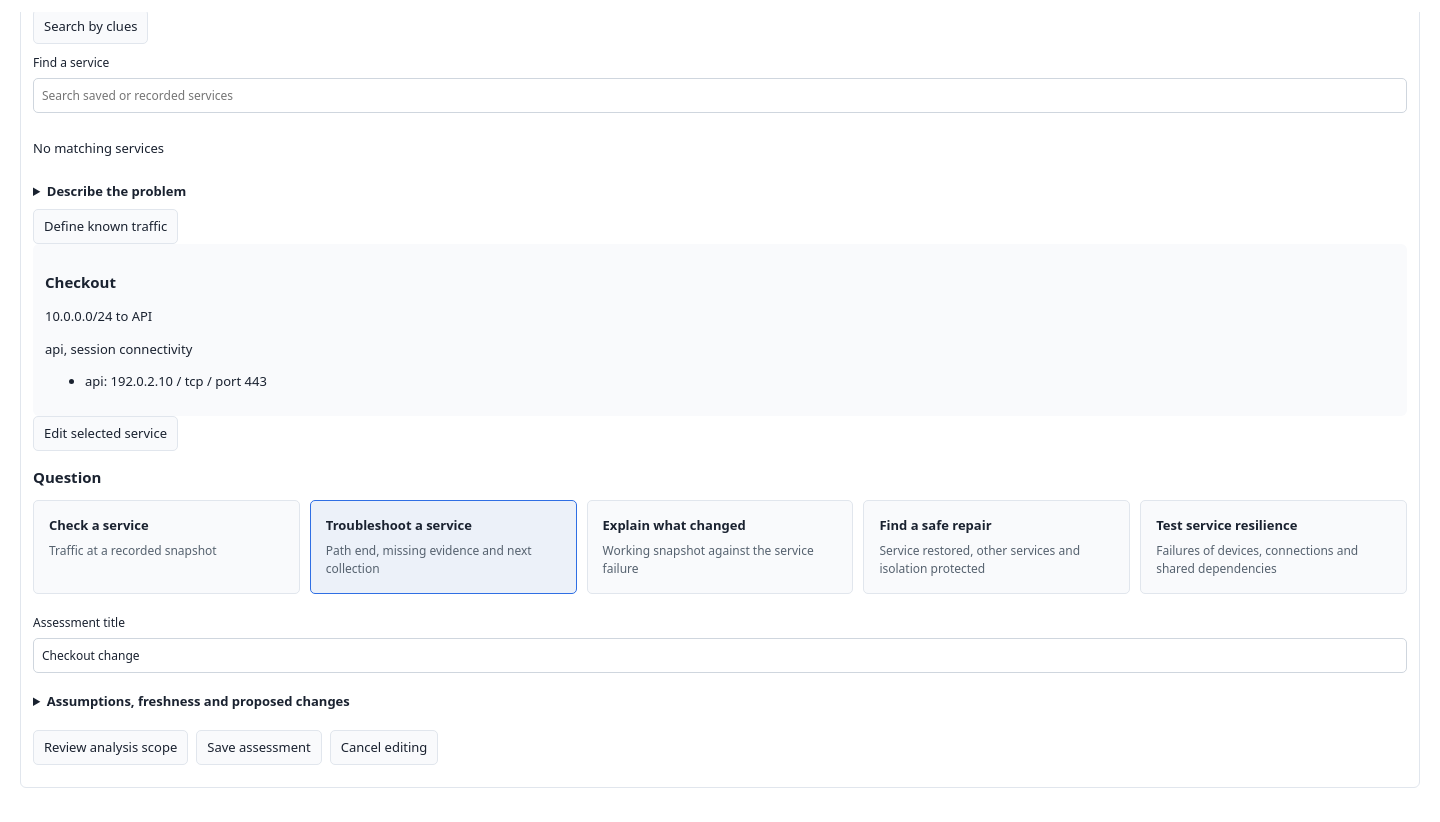
Scenario: Assessments workflow › keeps the saved assessment accessible when analysis admission fails
(page scrolled)
Click the button "Review analysis scope". click: (111, 747)
box: [33, 730, 188, 765]
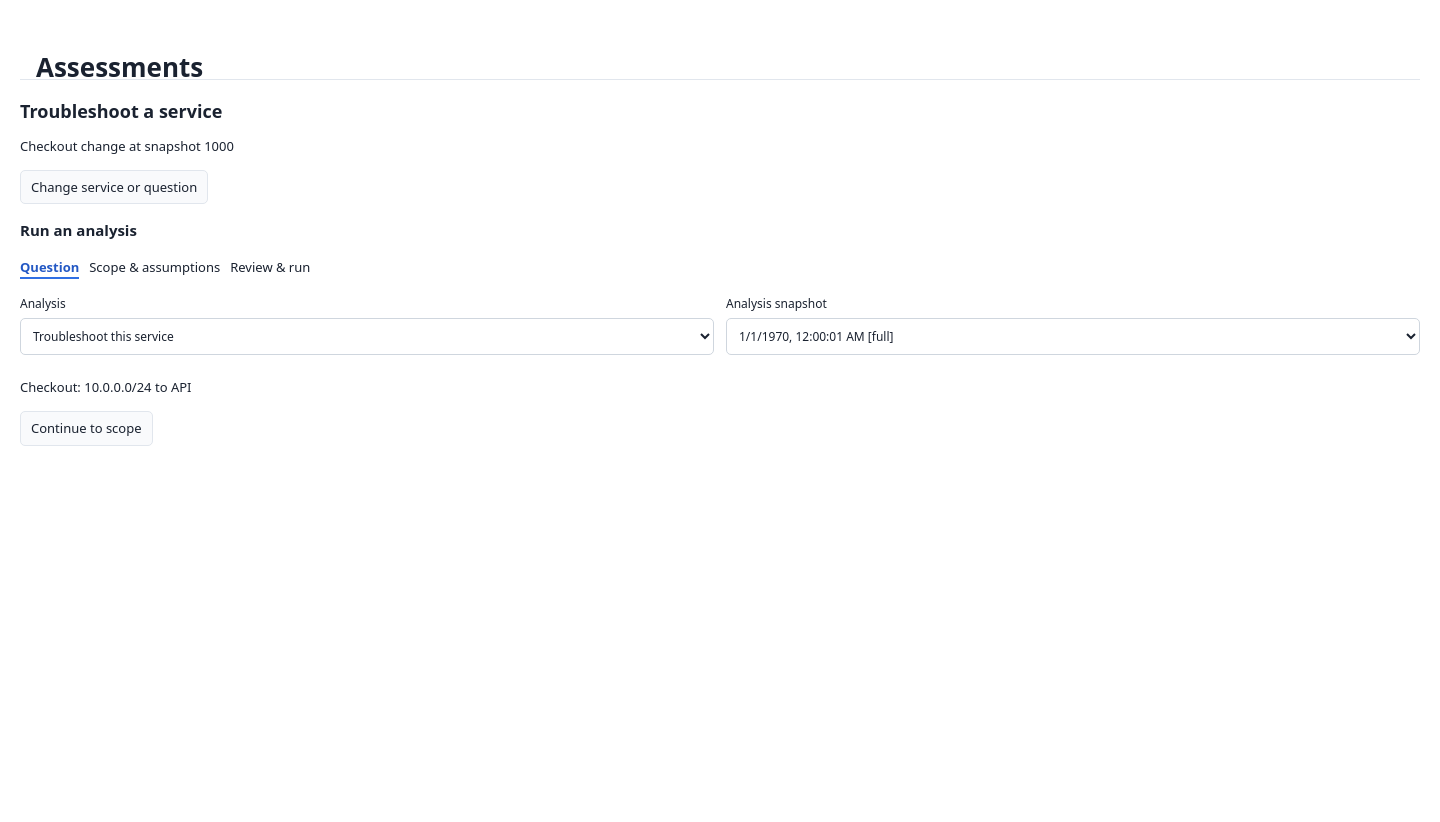
Click the button "Continue to scope". click: (86, 428)
box: [20, 411, 152, 446]
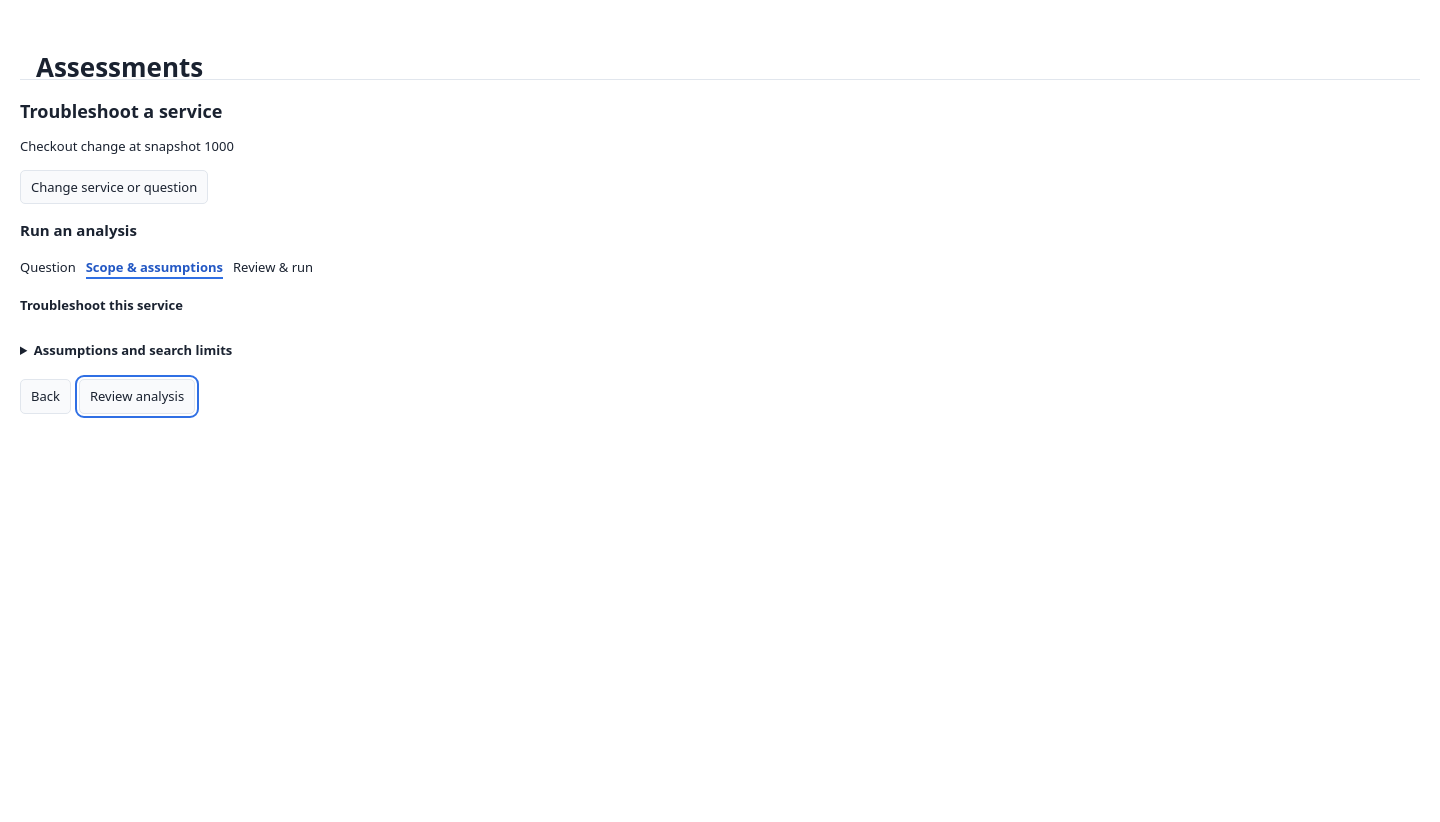
Click the button "Review analysis". click: (137, 397)
box: [79, 379, 195, 414]
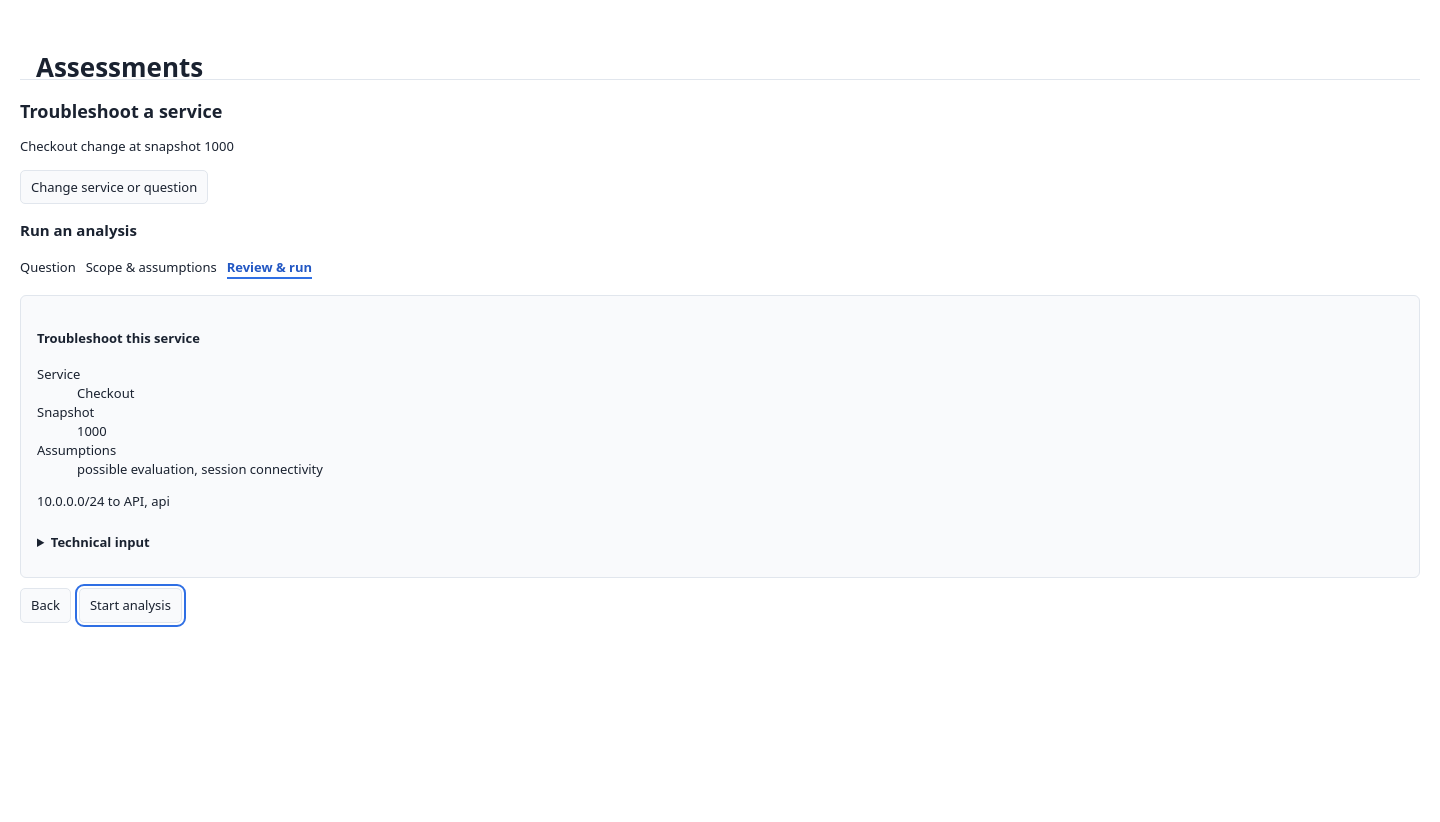
Click the button "Start analysis". click: (130, 605)
box: [79, 588, 182, 623]
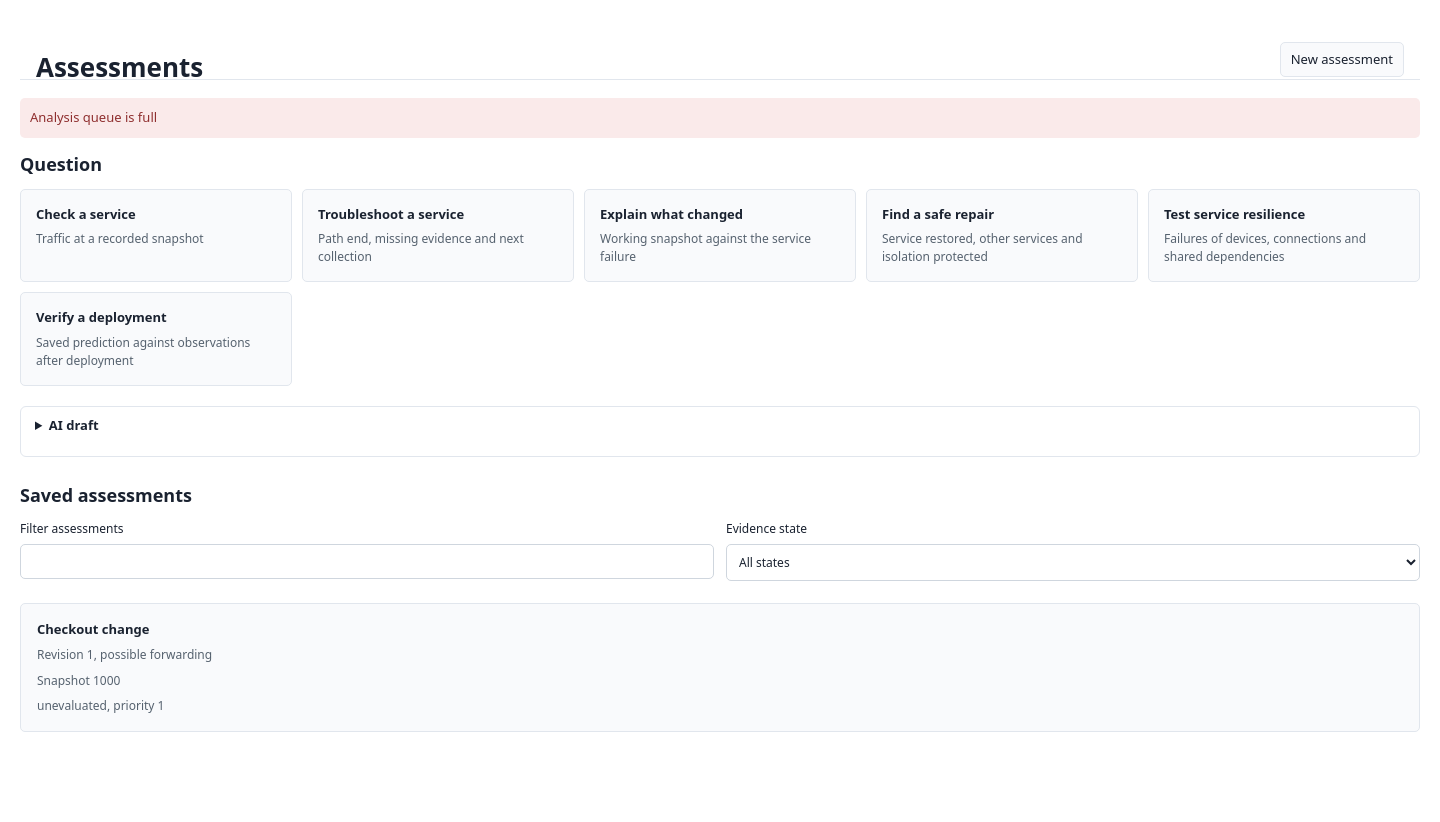
Expected: the text "Analysis queue is full" is shown, [20, 98, 1420, 138]
